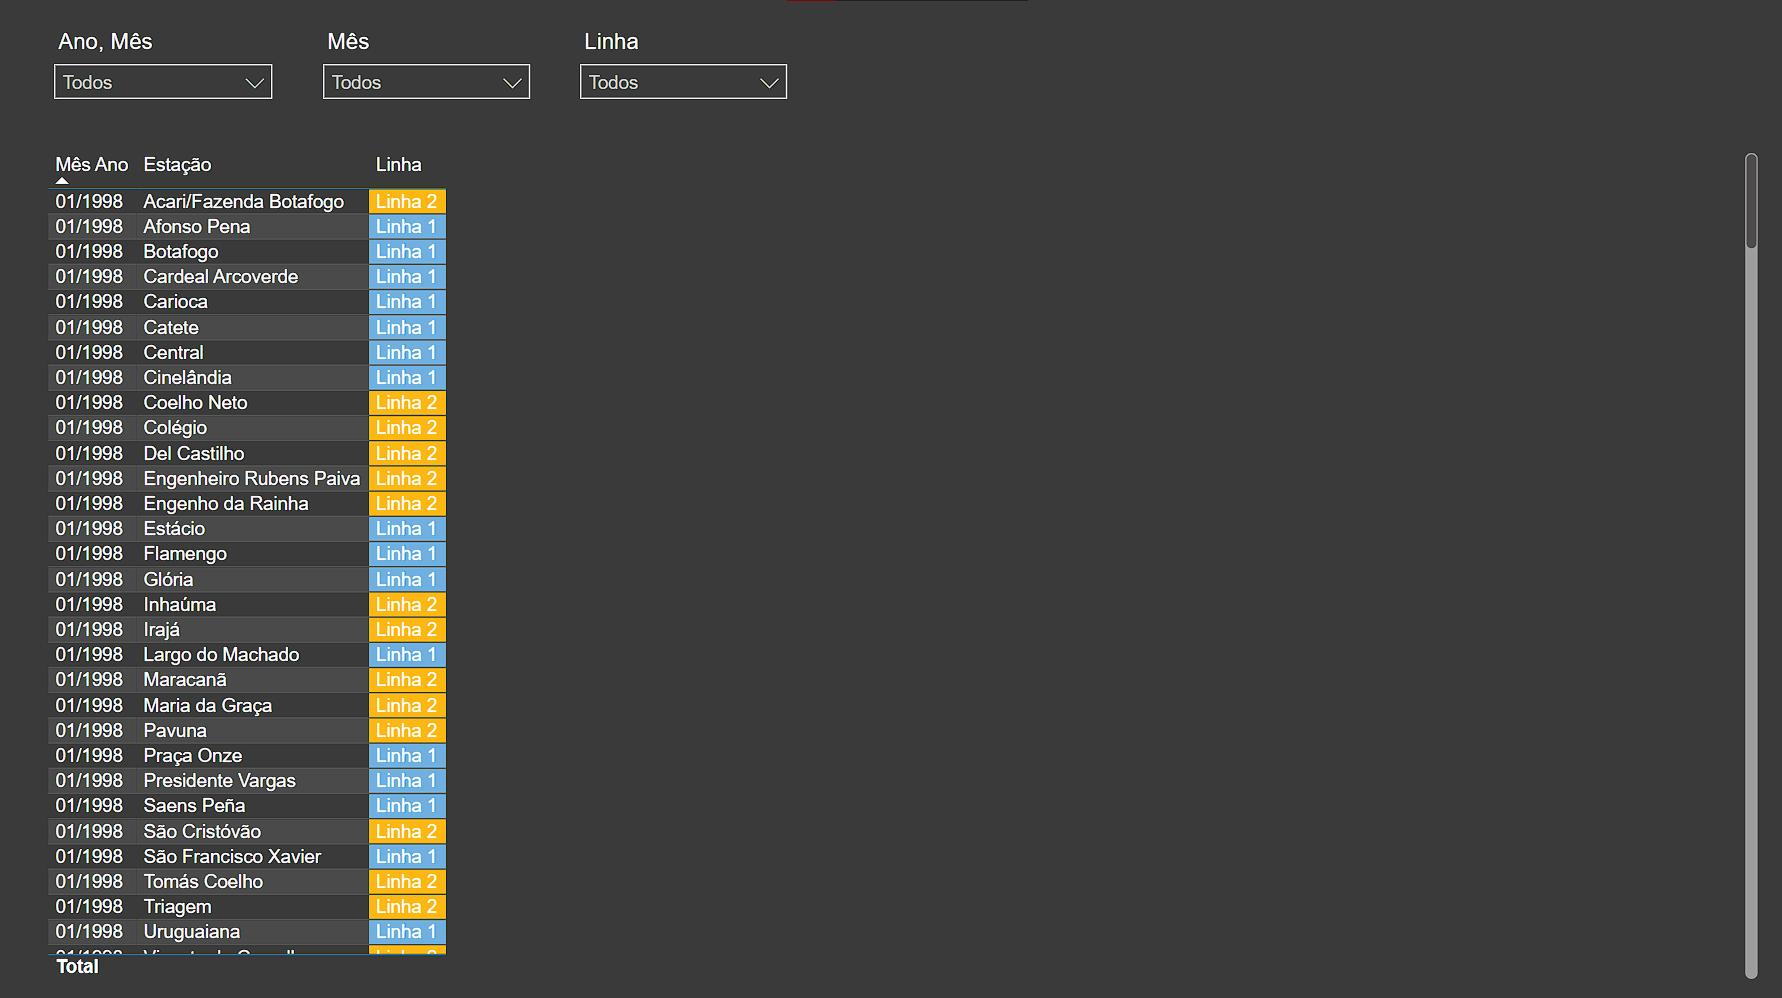

This screenshot's page, from the dashboard's own definition file:
{"tool":"powerbi","page":{"name":"Extração de Dados","canvas":[1280,720],"ordinal":3},"visuals":[{"type":"slicer","fields":{"Values":["DateDim.Ano","DateDim.Mês"]},"box":[32,16,176,64],"z":0},{"type":"slicer","fields":{"Values":["Fato.Linha"]},"box":[408,16,168,64],"z":1000},{"type":"tableEx","fields":{"Values":["DateDim.Mês Ano","Fato.Estação","Fato.Linha"]},"box":[32,104,1232,600],"z":2000},{"type":"slicer","fields":{"Values":["DateDim.Mês"]},"box":[224,16,168,64],"z":3000}]}

Visuals, with their boxes in screenshot pixels (x1, y1, x2, y2), scaled from the page's 1280x720 canvas onto the 1782x998 screenshot:
slicer - DateDim.Ano x DateDim.Mês: l=45, t=22, r=290, b=111
slicer - Fato.Linha: l=568, t=22, r=802, b=111
tableEx - DateDim.Mês Ano x Fato.Estação: l=45, t=144, r=1760, b=976
slicer - DateDim.Mês: l=312, t=22, r=546, b=111
